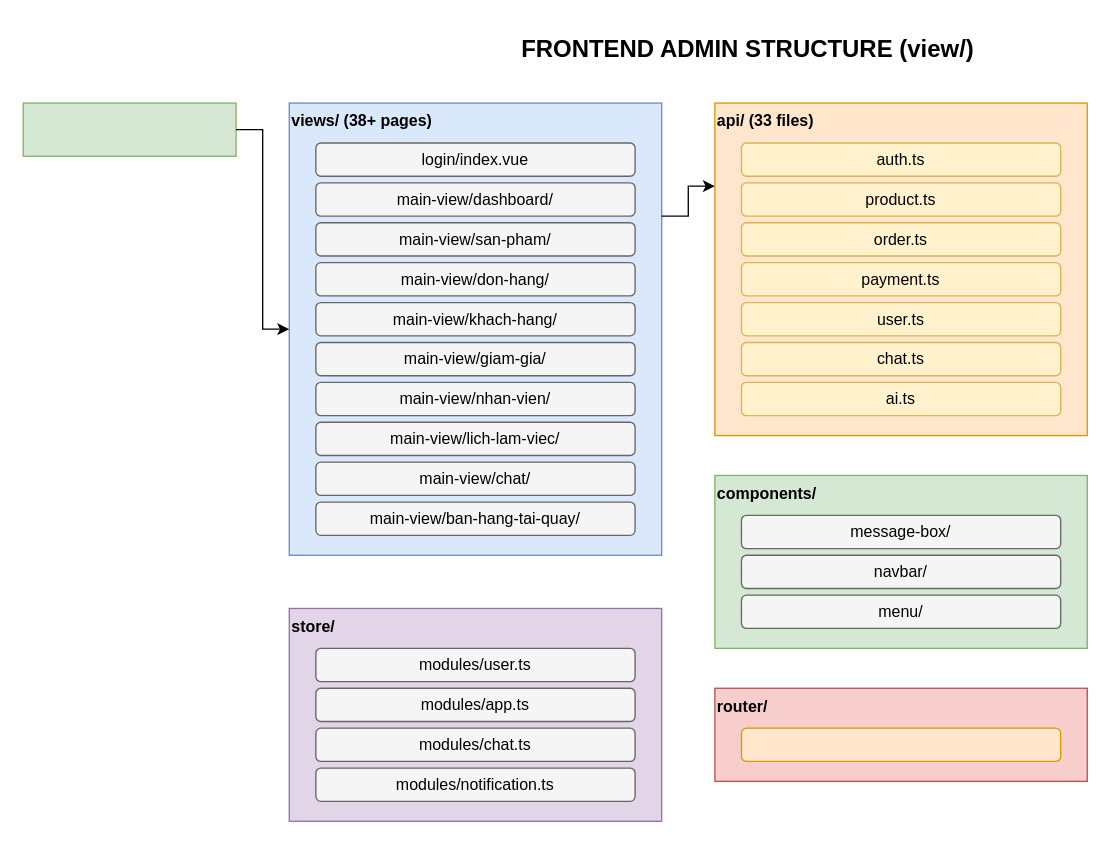
Image size: 1111x845. Some labels were removed from this diagram. The centre of each missing label's shape, as x and y in pixels:
"index.ts" goes at (900,744).
"view/src/" goes at (129,129).
